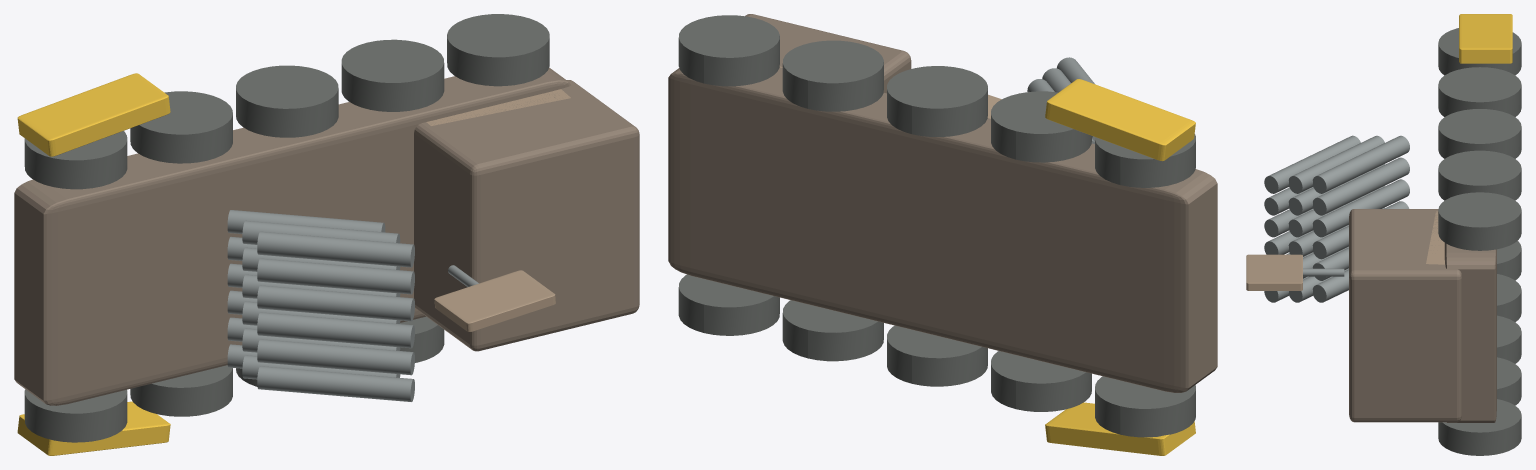
File: d-x03-dominion-drone-lod1.glb
3 views of the same model, side by side, from view 1: azimuth 30°, elevation 25°; view 2: azimuth 150°, elevation 25°; view 3: azimuth 270°, elevation 25° (orthographic). The views are drawn at different scales.
Visible parts, largest first — view 1: strategic_lower, strategic_cab, strategic_jack_1, strategic_wheel_1_3, strategic_wheel_1_2, strategic_wheel_1_4, strategic_wheel_1_1, drone_control_array, strategic_wheel_1_0, strategic_wheel_-1_0, drone_cells_tube_14, drone_cells_tube_13 (+15 smaller); view 2: strategic_lower, strategic_jack_1, strategic_wheel_1_4, strategic_wheel_1_3, strategic_wheel_1_2, strategic_wheel_1_1, strategic_wheel_-1_0, strategic_wheel_-1_3, strategic_wheel_-1_4, strategic_wheel_-1_1, strategic_wheel_-1_2, strategic_jack_-1 (+2 smaller); view 3: strategic_cab, strategic_lower, strategic_wheel_1_4, strategic_wheel_1_3, strategic_wheel_1_2, strategic_wheel_1_1, strategic_wheel_-1_4, strategic_jack_1, drone_control_array, drone_cells_tube_5, drone_cells_tube_6, drone_cells_tube_4 (+19 smaller).
Part boxes in pixels (<box>): strategic_lower: <box>14,67,570,405</box>; strategic_cab: <box>414,80,639,351</box>; strategic_jack_1: <box>17,73,170,156</box>; strategic_wheel_1_3: <box>341,39,444,111</box>; strategic_wheel_1_2: <box>236,65,338,137</box>; strategic_wheel_1_4: <box>447,14,549,86</box>; strategic_wheel_1_1: <box>130,91,232,163</box>; drone_control_array: <box>434,270,555,331</box>; strategic_wheel_1_0: <box>24,131,127,189</box>; strategic_wheel_-1_0: <box>24,389,127,442</box>; drone_cells_tube_14: <box>257,339,414,375</box>; drone_cells_tube_13: <box>257,366,414,401</box>; strategic_lower: <box>668,67,1217,392</box>; strategic_jack_1: <box>1045,79,1195,161</box>; strategic_wheel_1_4: <box>678,15,779,86</box>; strategic_wheel_1_3: <box>782,40,883,111</box>; strategic_wheel_1_2: <box>887,66,987,136</box>; strategic_wheel_1_1: <box>991,91,1091,162</box>; strategic_wheel_-1_0: <box>1095,376,1195,437</box>; strategic_wheel_-1_3: <box>782,300,883,361</box>; strategic_wheel_-1_4: <box>678,274,779,335</box>; strategic_wheel_-1_1: <box>991,351,1091,411</box>; strategic_wheel_-1_2: <box>887,325,987,386</box>; strategic_jack_-1: <box>1045,402,1195,455</box>; strategic_cab: <box>1349,209,1461,422</box>; strategic_lower: <box>1444,243,1496,422</box>; strategic_wheel_1_4: <box>1438,192,1521,250</box>; strategic_wheel_1_3: <box>1438,150,1521,200</box>; strategic_wheel_1_2: <box>1438,109,1521,158</box>; strategic_wheel_1_1: <box>1438,67,1521,116</box>; strategic_wheel_-1_4: <box>1438,399,1521,455</box>; strategic_jack_1: <box>1459,14,1512,63</box>; drone_control_array: <box>1246,254,1302,290</box>; drone_cells_tube_5: <box>1312,157,1409,215</box>; drone_cells_tube_6: <box>1312,135,1409,193</box>; drone_cells_tube_4: <box>1312,179,1409,237</box>.
Size of what is drawn, in the model's own units: 9.68 by 5.95 by 5.3.
